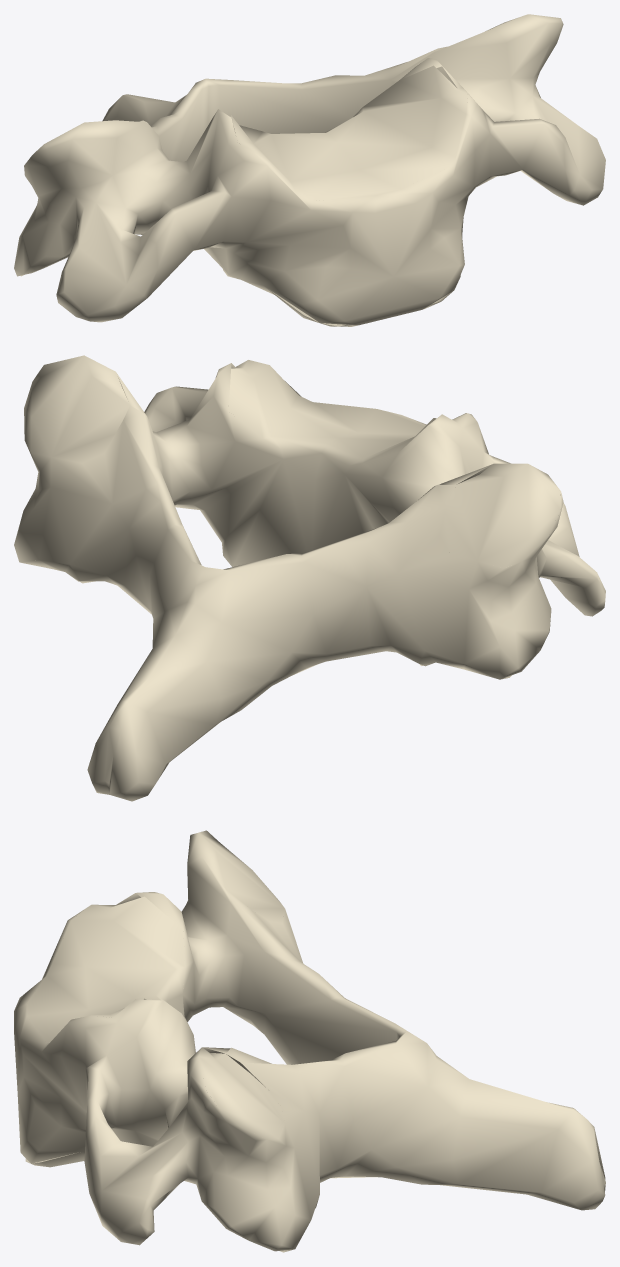
The model's file is esqueleto-vertebra-c4.glb.
3 views of the same model, one above another, from view 1: azimuth 30°, elevation 25°; view 2: azimuth 150°, elevation 25°; view 3: azimuth 270°, elevation 25° (orthographic). The views are drawn at different scales.
Parts seen in each view (by area): view 1: Vertebra C4; view 2: Vertebra C4; view 3: Vertebra C4.
Boxes of the visible parts, x1=… form: Vertebra C4: x1=14, y1=14, x2=605, y2=326; Vertebra C4: x1=14, y1=355, x2=605, y2=801; Vertebra C4: x1=14, y1=830, x2=605, y2=1252.
Size of the model in its own units: 0.058 by 0.025 by 0.0524.
